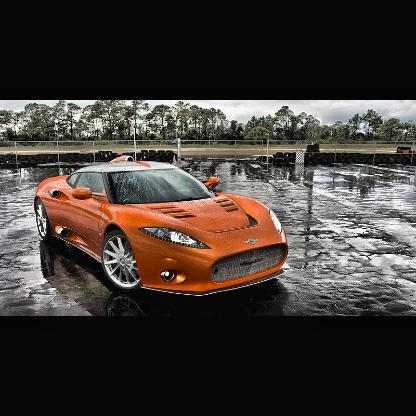Spyker C8 Coupe 2009: (34, 154, 294, 300)
